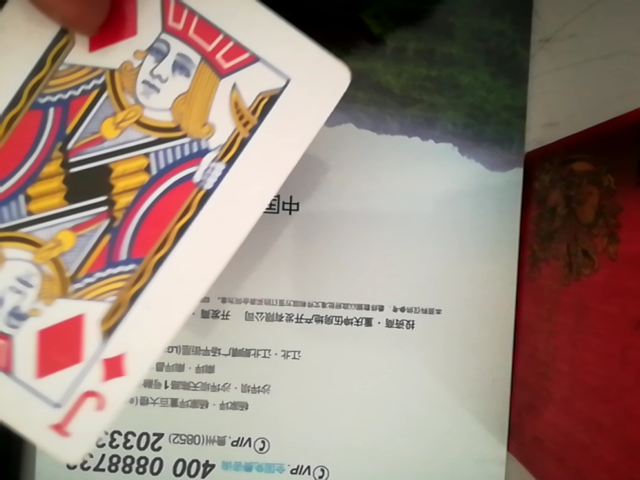fk j: (0, 3, 367, 471)
